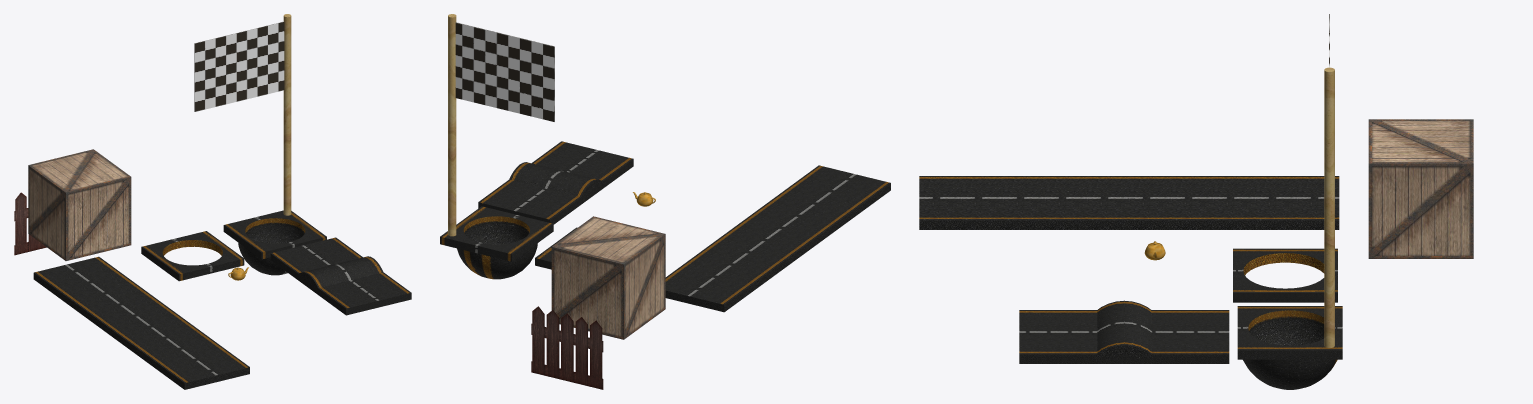
File: levelFBX.FBX
3 renders of one model, left to right at view 1: azimuth 30°, elevation 25°; view 2: azimuth 150°, elevation 25°; view 3: azimuth 270°, elevation 25°, orthographic. The views are drawn at different scales.
Visible parts, largest first — view 1: Straight, Box002, Box001, Cylinder002, Finish, Hole, Flag, Plane001; view 2: Straight, Box002, Box001, Cylinder002, Finish, Plane001, Flag, Plane002; view 3: Straight, Box002, Cylinder002, Finish, Hole, Flag.
Boxes of the visible parts, x1,y1,x2,y2 form: Straight: (33, 256, 249, 389); Box002: (28, 149, 131, 260); Box001: (194, 21, 284, 111); Cylinder002: (270, 237, 411, 315); Finish: (223, 210, 326, 275); Hole: (141, 231, 244, 281); Flag: (283, 14, 291, 215); Plane001: (14, 192, 46, 255); Straight: (665, 165, 890, 312); Box002: (551, 216, 665, 339); Box001: (455, 22, 554, 121); Cylinder002: (478, 141, 633, 224); Finish: (440, 206, 553, 279); Plane001: (531, 306, 603, 389); Flag: (448, 14, 456, 236); Plane002: (532, 313, 603, 389); Straight: (919, 176, 1339, 229); Box002: (1368, 119, 1473, 258); Cylinder002: (1019, 300, 1229, 363); Finish: (1237, 306, 1342, 389); Hole: (1233, 248, 1337, 302); Flag: (1324, 67, 1334, 347).
Size of the model in its own units: 0.102 by 0.0889 by 0.145.
Materials: 6 (6 with a texture image).
